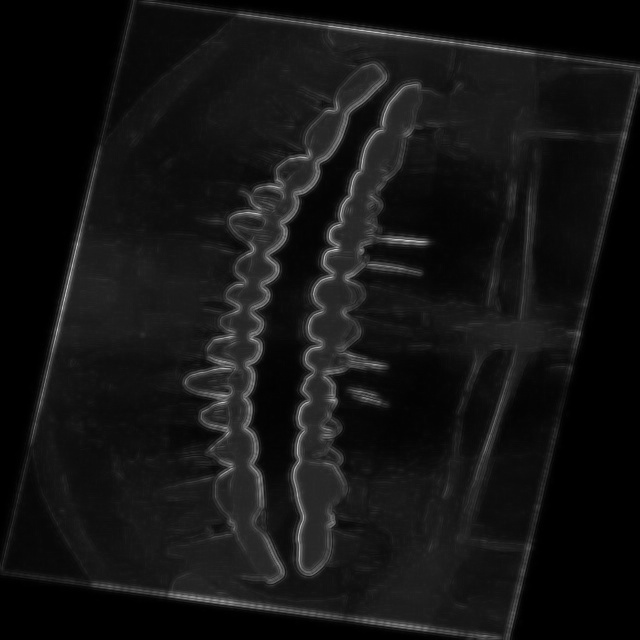Class 1- complete endodontic treatment: (308, 210, 452, 294), (285, 341, 419, 424)
Class 2- incomplete endodontic treatment: (113, 412, 279, 494), (164, 189, 296, 265), (187, 172, 318, 220)
cavity: (115, 263, 287, 413), (214, 43, 407, 163), (271, 492, 423, 604), (361, 73, 503, 161)
